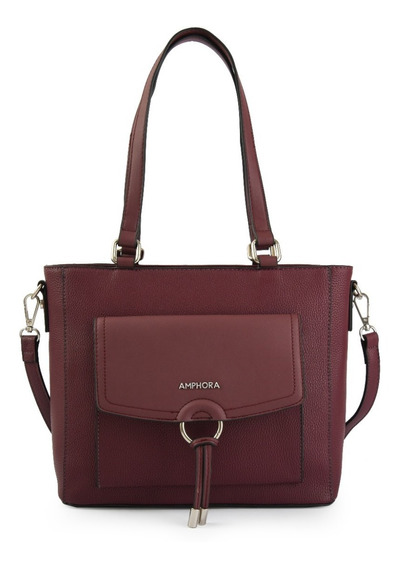cartera: (20, 25, 383, 514)
